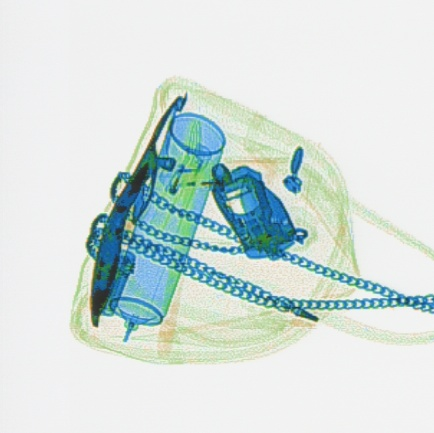knife: (208, 162, 307, 261)
lighter: (144, 137, 211, 238), (158, 157, 278, 192)
pressure: (107, 112, 224, 343)
